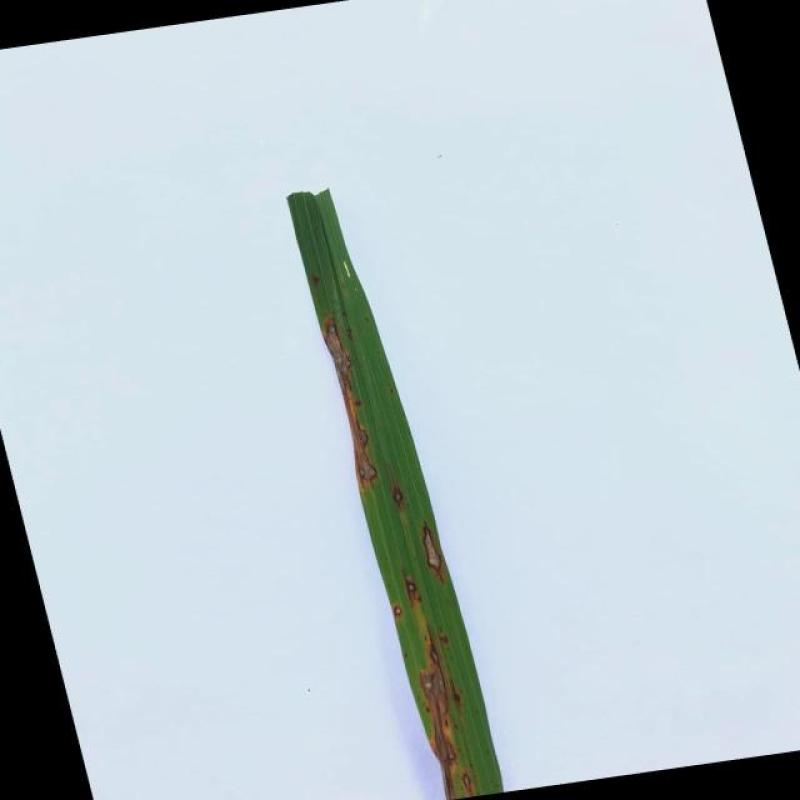Leaf_Blast: (318, 315, 380, 490), (418, 670, 458, 800), (420, 520, 446, 578), (425, 628, 447, 688), (402, 577, 424, 605), (390, 482, 406, 510), (460, 772, 476, 796), (391, 604, 405, 618)
